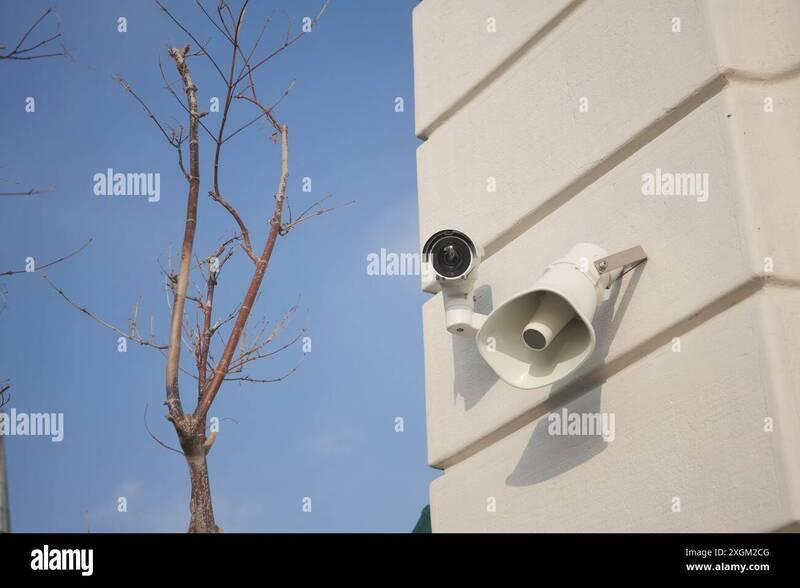bullet: (416, 230, 488, 289)
